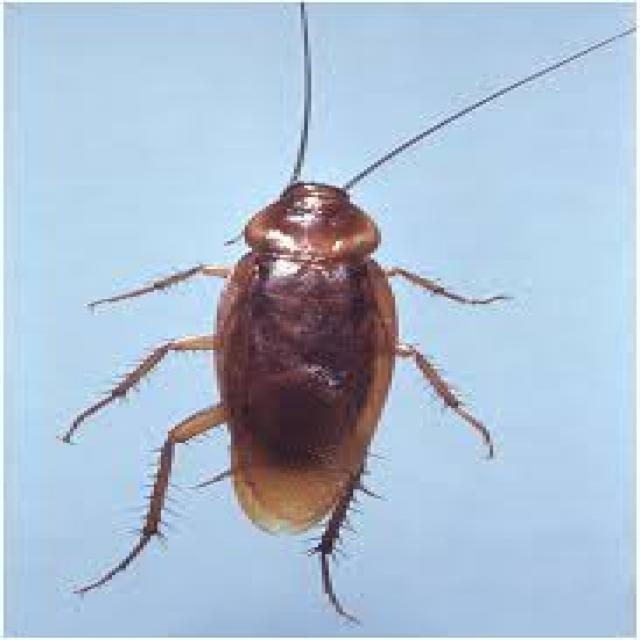Cockroach: (65, 8, 600, 632)
